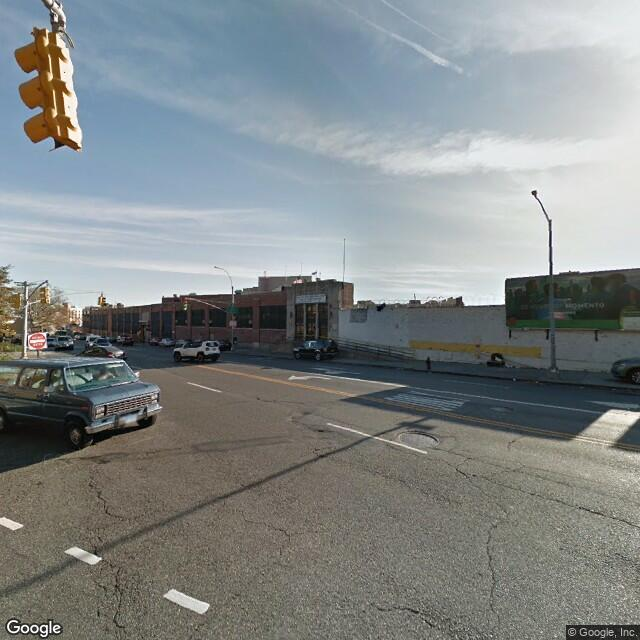litter: (485, 353, 514, 377)
